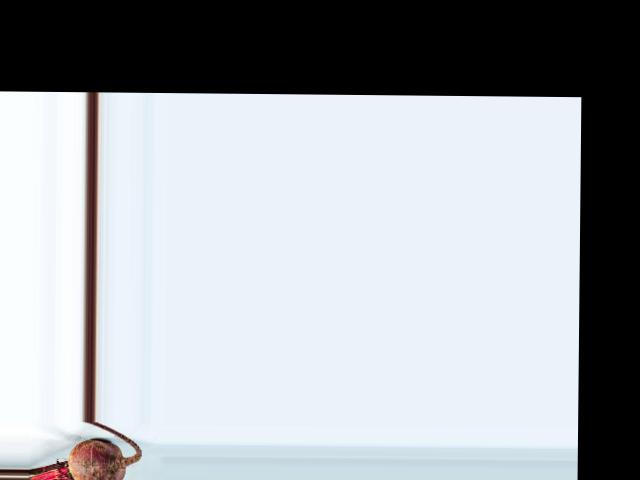beet: (27, 421, 141, 480)
